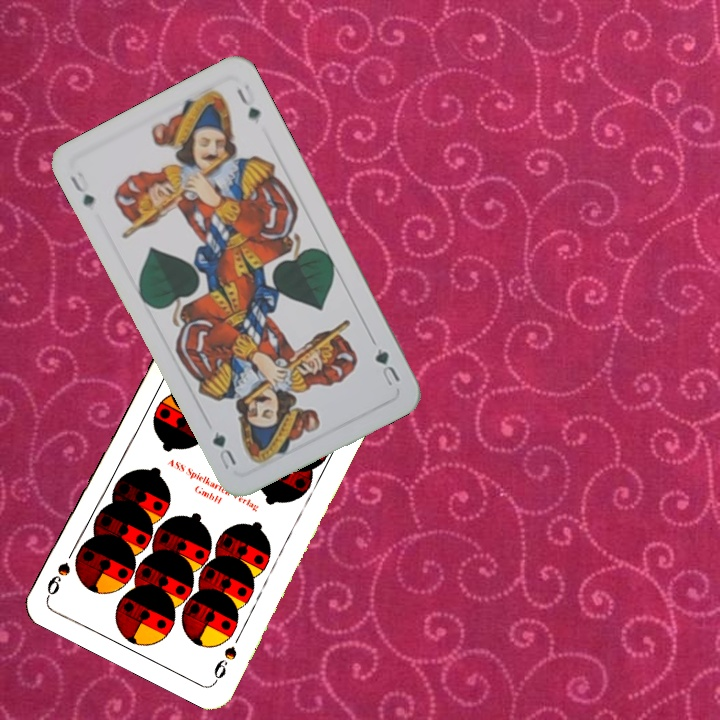GU: (371, 344, 403, 389), (65, 167, 98, 209)
S9: (209, 641, 240, 686)
